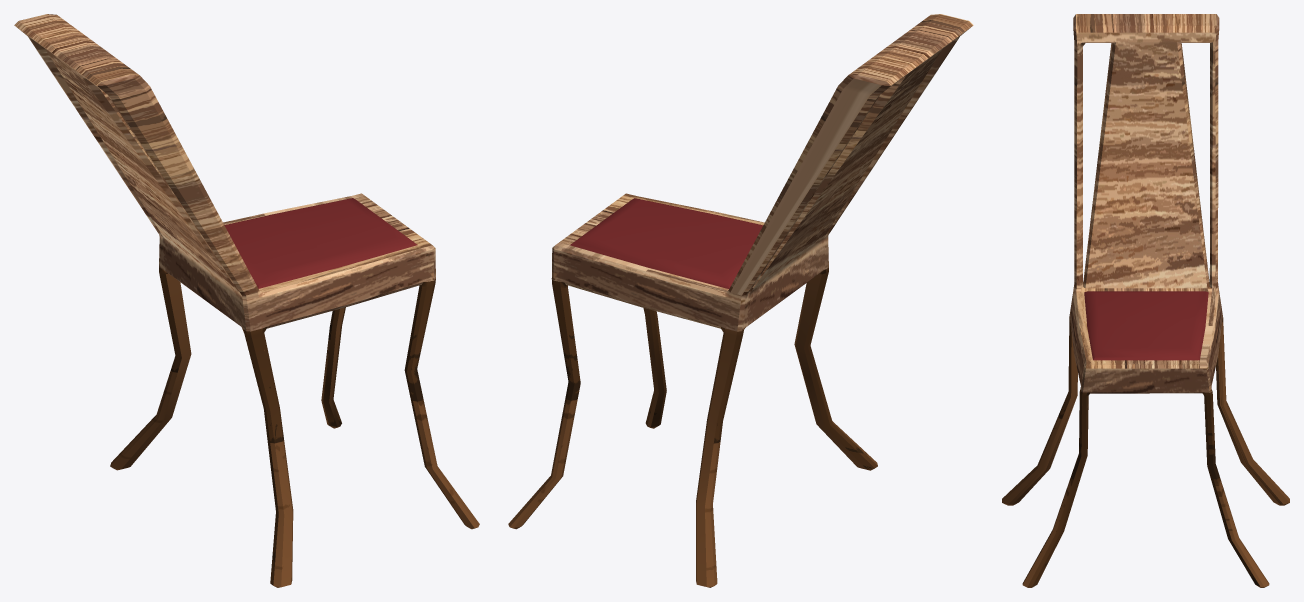
Rendered from chair.fbx.
The picture shows the model from 3 angles, left to right: view 1: azimuth 30°, elevation 25°; view 2: azimuth 150°, elevation 25°; view 3: azimuth 270°, elevation 25°; orthographic projection. The views are drawn at different scales.
Visible parts, largest first — view 1: chair2; view 2: chair2; view 3: chair2.
Boxes of the visible parts, box(x1,y1,x2,y2) form: chair2: box(14, 14, 479, 587); chair2: box(508, 14, 973, 587); chair2: box(1002, 14, 1289, 587).
Size of the model in its own units: 8.83 by 12.15 by 7.35.
